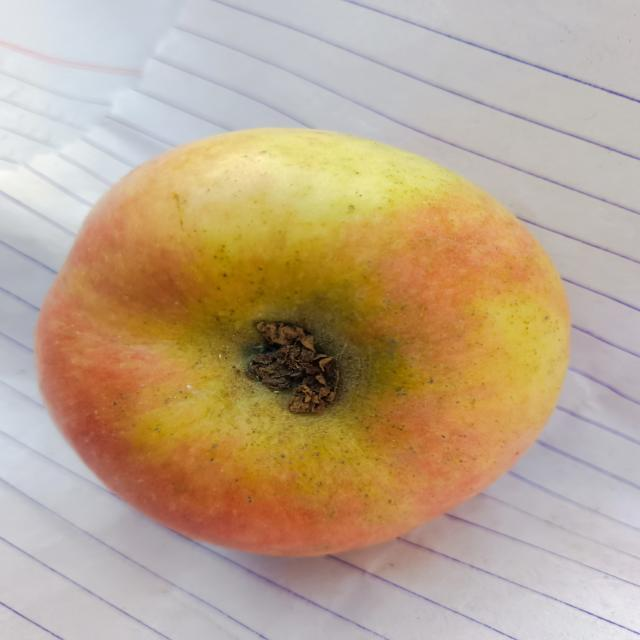Fresh Apple: (55, 122, 582, 575)
